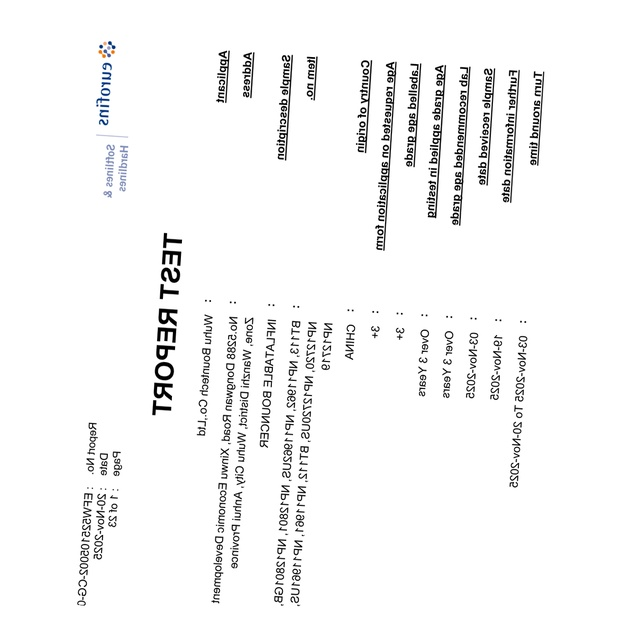eurofins: (91, 38, 119, 132)
